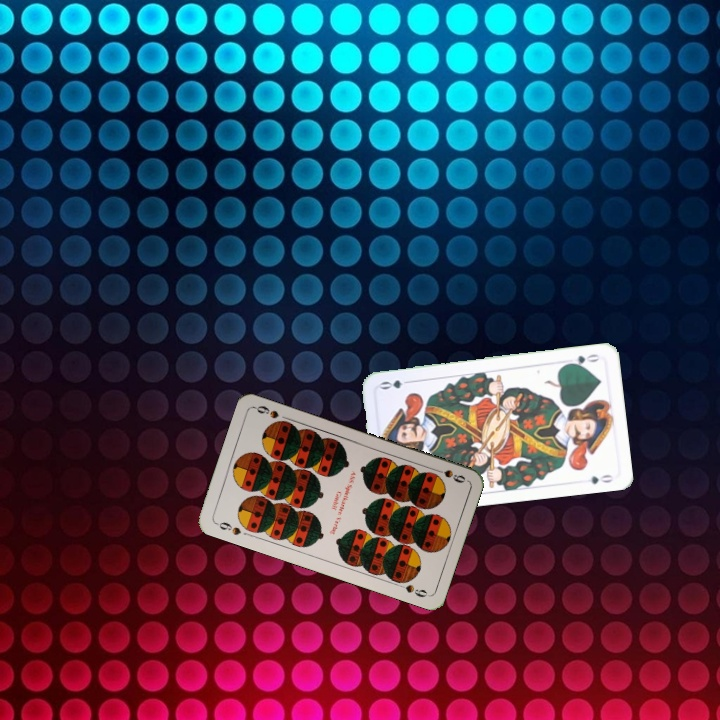GO: (563, 350, 602, 369)
S9: (429, 464, 468, 485), (211, 518, 244, 538)
